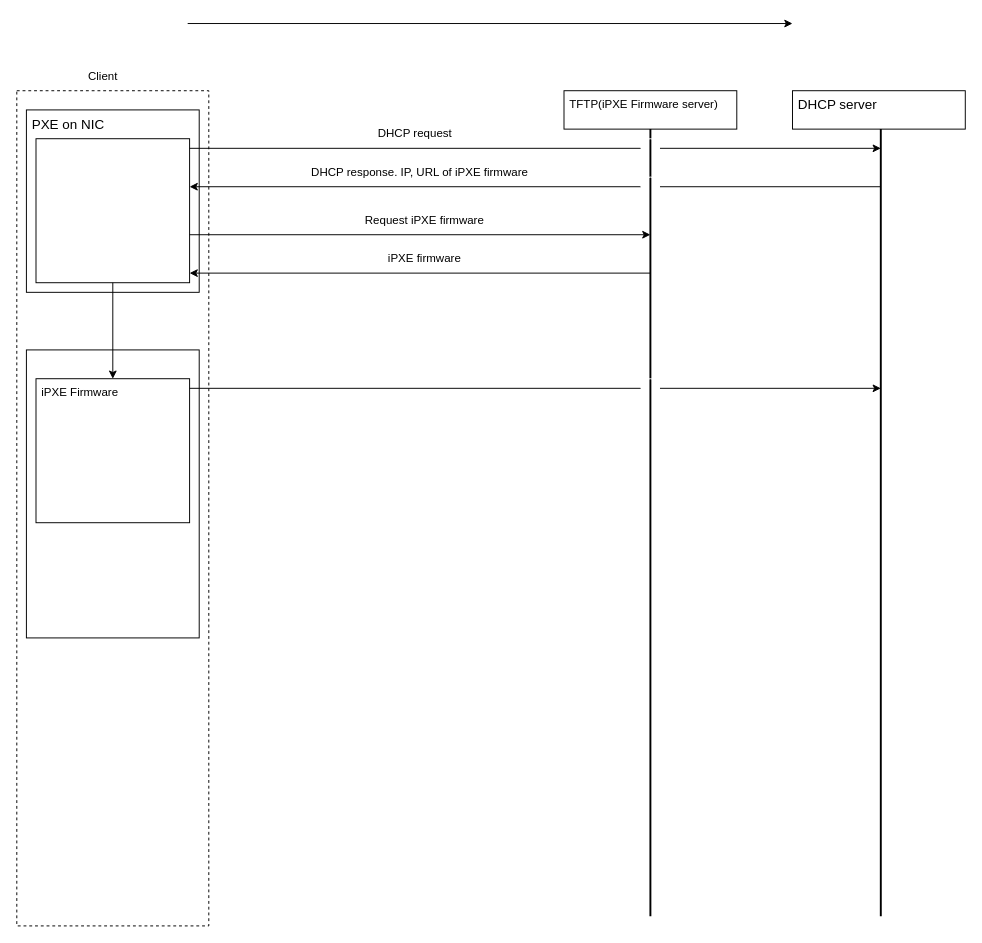
Some shapes in this 982 by 943 pixel diagram are drawn without their labels. Each missing label, with the box of its shape:
iPXE on NIC: (25, 349, 199, 638)
PXE Firmware: (35, 138, 190, 283)
